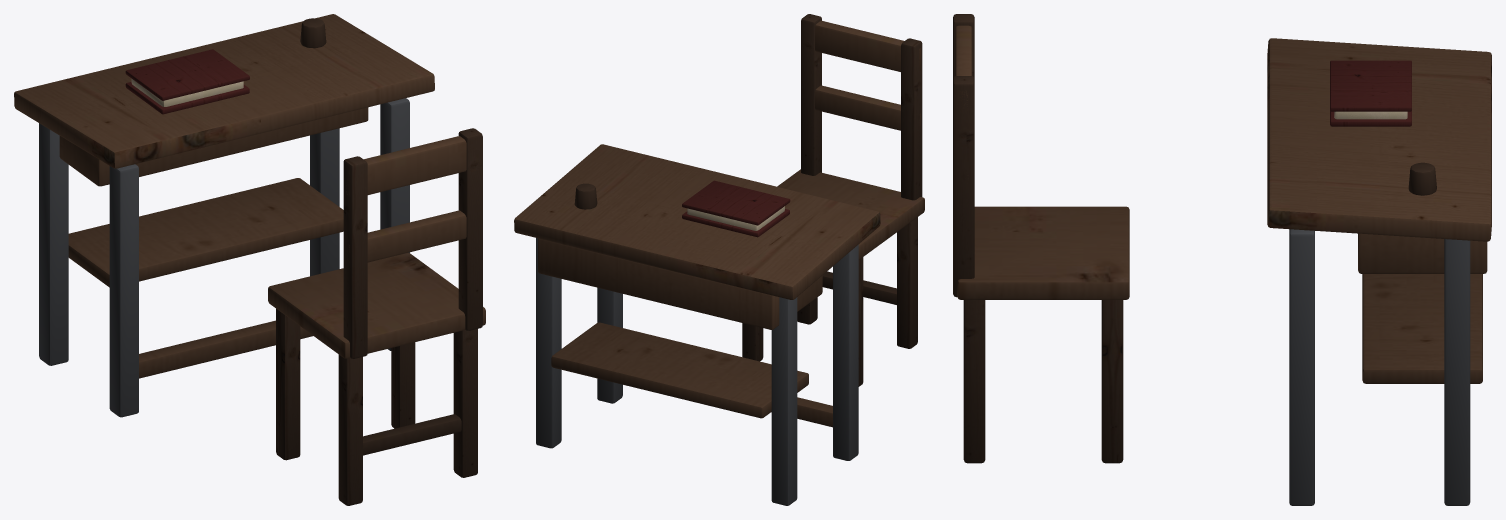
Rendered from school_desk_chair.glb.
3 renders of one model, left to right at view 1: azimuth 30°, elevation 25°; view 2: azimuth 150°, elevation 25°; view 3: azimuth 270°, elevation 25°, orthographic. The views are drawn at different scales.
Parts seen in each view (by area): view 1: DeskTop, DeskShelf, ChairSeat, DeskLeg0, DeskLeg2, ChairPost0, DeskApron, ChairPost1, ChairSlatTop, BookCoverTop, ChairLeg0, Footrest (+10 smaller); view 2: DeskTop, DeskShelf, DeskApron, DeskLeg0, DeskLeg2, DeskLeg3, ChairSeat, ChairPost0, ChairPost1, ChairSlatTop, BookCoverTop, ChairLeg0 (+9 smaller); view 3: DeskTop, ChairSeat, DeskShelf, DeskLeg3, DeskLeg1, ChairPost1, BookCoverTop, DeskApron, ChairLeg1, ChairLeg3, ChairSlatTop, Inkwell (+2 smaller).
Boxes of the visible parts, x1=… form: DeskTop: x1=14, y1=14, x2=434, y2=168; DeskShelf: x1=68, y1=178, x2=343, y2=287; ChairSeat: x1=268, y1=253, x2=485, y2=358; DeskLeg0: x1=109, y1=164, x2=138, y2=417; DeskLeg2: x1=39, y1=123, x2=68, y2=365; ChairPost0: x1=343, y1=156, x2=367, y2=358; DeskApron: x1=59, y1=107, x2=368, y2=186; ChairPost1: x1=458, y1=128, x2=482, y2=330; ChairSlatTop: x1=346, y1=136, x2=466, y2=195; BookCoverTop: x1=125, y1=49, x2=249, y2=100; ChairLeg0: x1=338, y1=354, x2=362, y2=505; Footrest: x1=139, y1=320, x2=312, y2=378; DeskTop: x1=514, y1=144, x2=880, y2=299; DeskShelf: x1=551, y1=322, x2=808, y2=418; DeskApron: x1=538, y1=238, x2=822, y2=329; DeskLeg0: x1=833, y1=244, x2=858, y2=460; DeskLeg2: x1=771, y1=297, x2=797, y2=505; DeskLeg3: x1=536, y1=238, x2=561, y2=448; ChairSeat: x1=777, y1=169, x2=924, y2=259; ChairPost0: x1=901, y1=38, x2=922, y2=200; ChairPost1: x1=801, y1=14, x2=821, y2=175; ChairSlatTop: x1=815, y1=20, x2=920, y2=71; BookCoverTop: x1=682, y1=180, x2=790, y2=225; ChairLeg0: x1=897, y1=217, x2=917, y2=348; DeskTop: x1=1267, y1=38, x2=1491, y2=241; ChairSeat: x1=957, y1=206, x2=1129, y2=299; DeskShelf: x1=1362, y1=274, x2=1482, y2=383; DeskLeg3: x1=1444, y1=239, x2=1470, y2=505; DeskLeg1: x1=1289, y1=229, x2=1314, y2=505; ChairPost1: x1=953, y1=76, x2=974, y2=297; BookCoverTop: x1=1330, y1=60, x2=1411, y2=111; DeskApron: x1=1358, y1=233, x2=1487, y2=273; ChairLeg1: x1=963, y1=300, x2=985, y2=463; ChairLeg3: x1=1101, y1=300, x2=1123, y2=463; ChairSlatTop: x1=955, y1=25, x2=972, y2=109; Inkwell: x1=1408, y1=162, x2=1436, y2=195.
Bounding box in the file's own units: 0.95 × 0.975 × 1.25.
5 materials, 4 textured.
